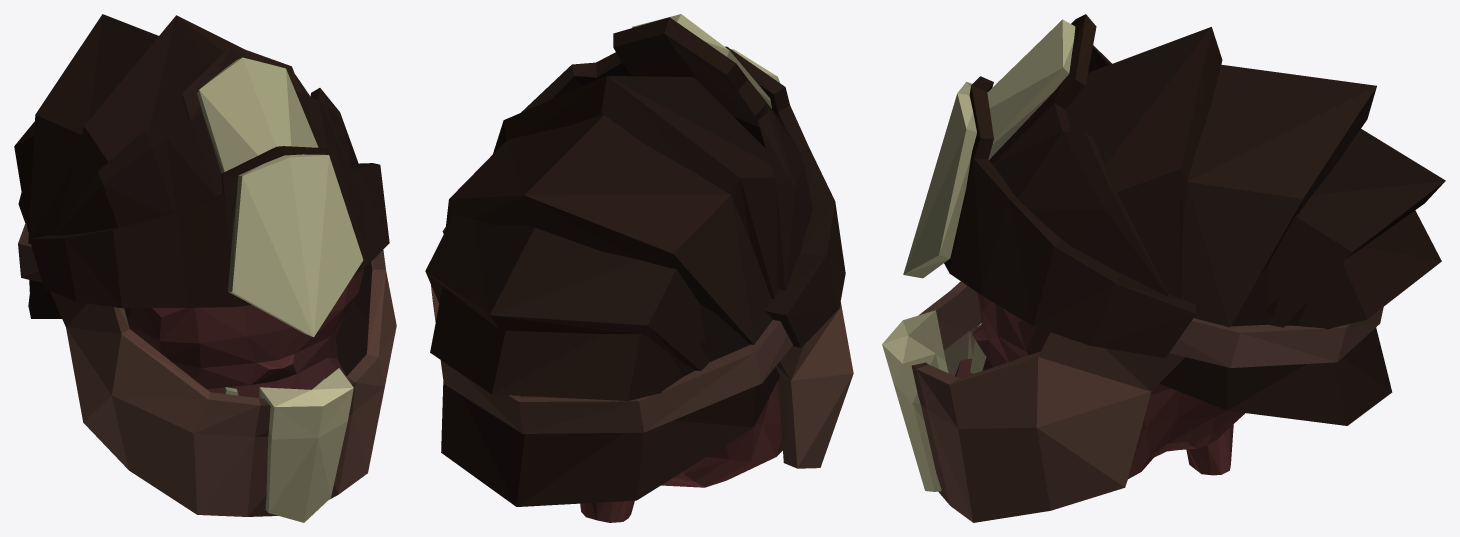
The model's file is Goblin_Red_Head_Helm_3.fbx.
3 views of the same model, side by side, from view 1: azimuth 30°, elevation 25°; view 2: azimuth 150°, elevation 25°; view 3: azimuth 270°, elevation 25° (orthographic). The views are drawn at different scales.
Parts seen in each view (by area): view 1: Goblin_Red_Head_Helm_3; view 2: Goblin_Red_Head_Helm_3; view 3: Goblin_Red_Head_Helm_3.
Part boxes in pixels (x1,y1,x2,y2): Goblin_Red_Head_Helm_3: (14, 14, 396, 522); Goblin_Red_Head_Helm_3: (425, 14, 853, 522); Goblin_Red_Head_Helm_3: (882, 14, 1445, 522).
Size of the model in its own units: 1.01 by 1.33 by 1.43.
